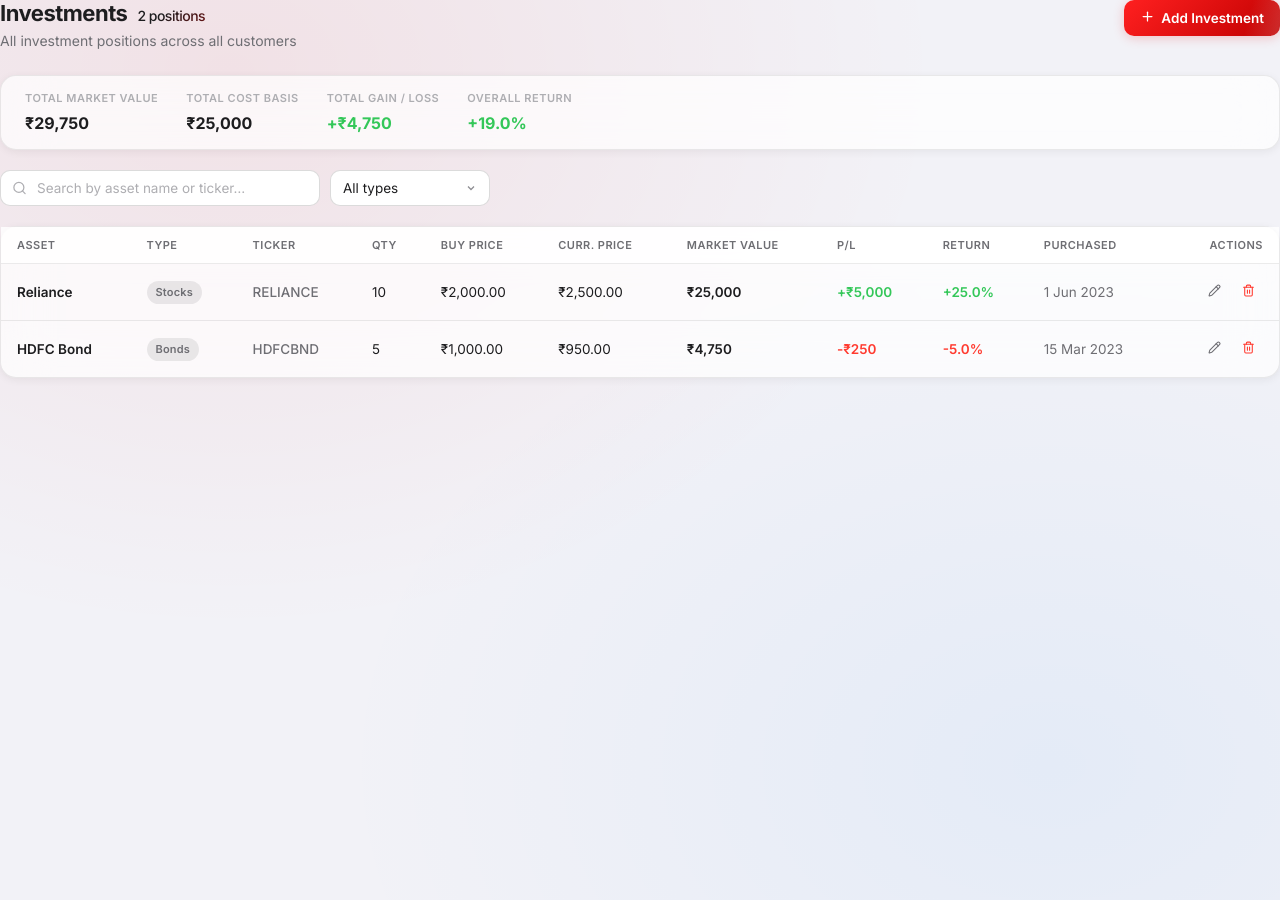
InvestmentsPage — delete › opens confirm dialog when trash icon is clicked
The image size is (1280, 900).
Click the button named "delete" at coordinates (1248, 292), box [1233,277,1263,307]
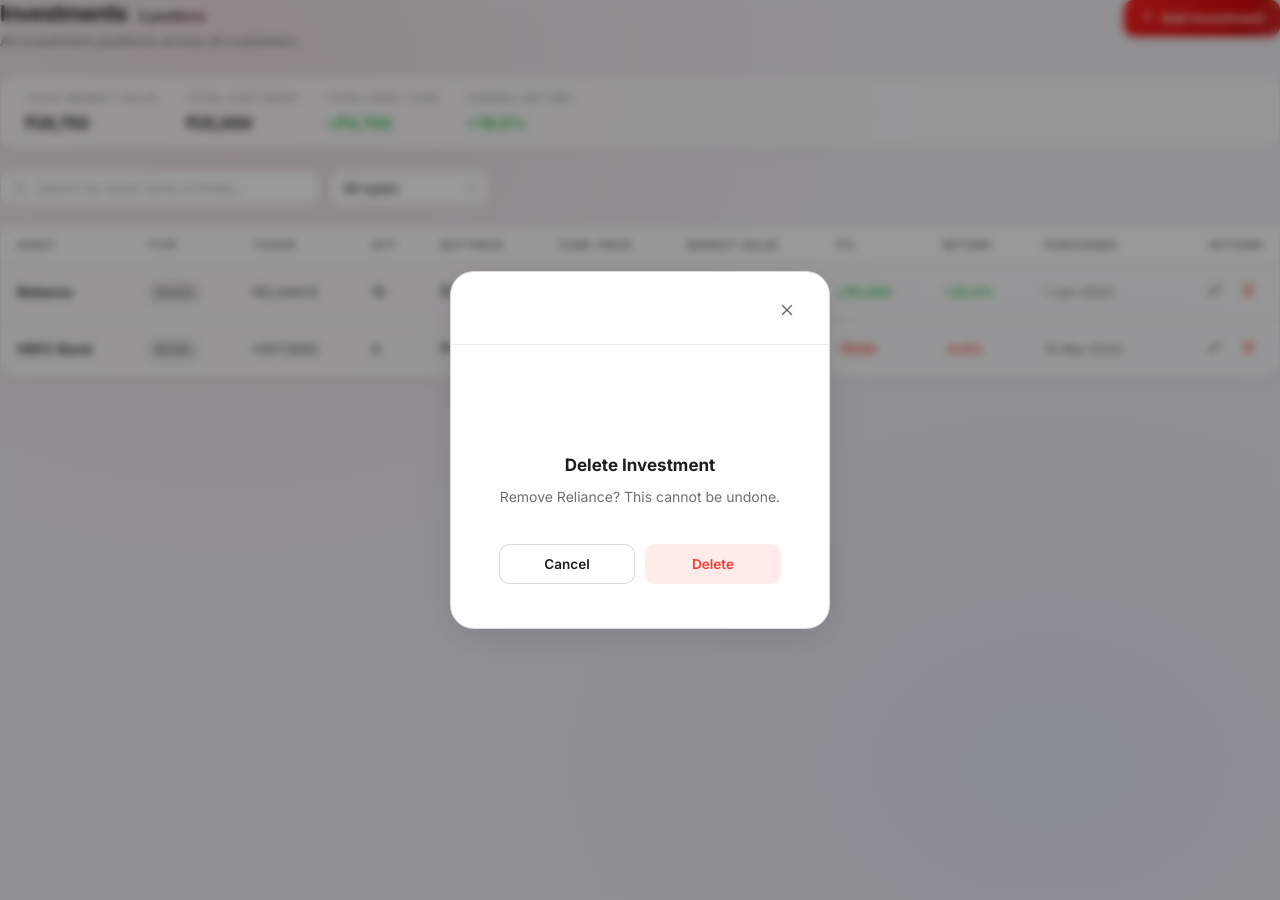
Now the text "Delete Investment" is shown, box [565,454,715,474]
